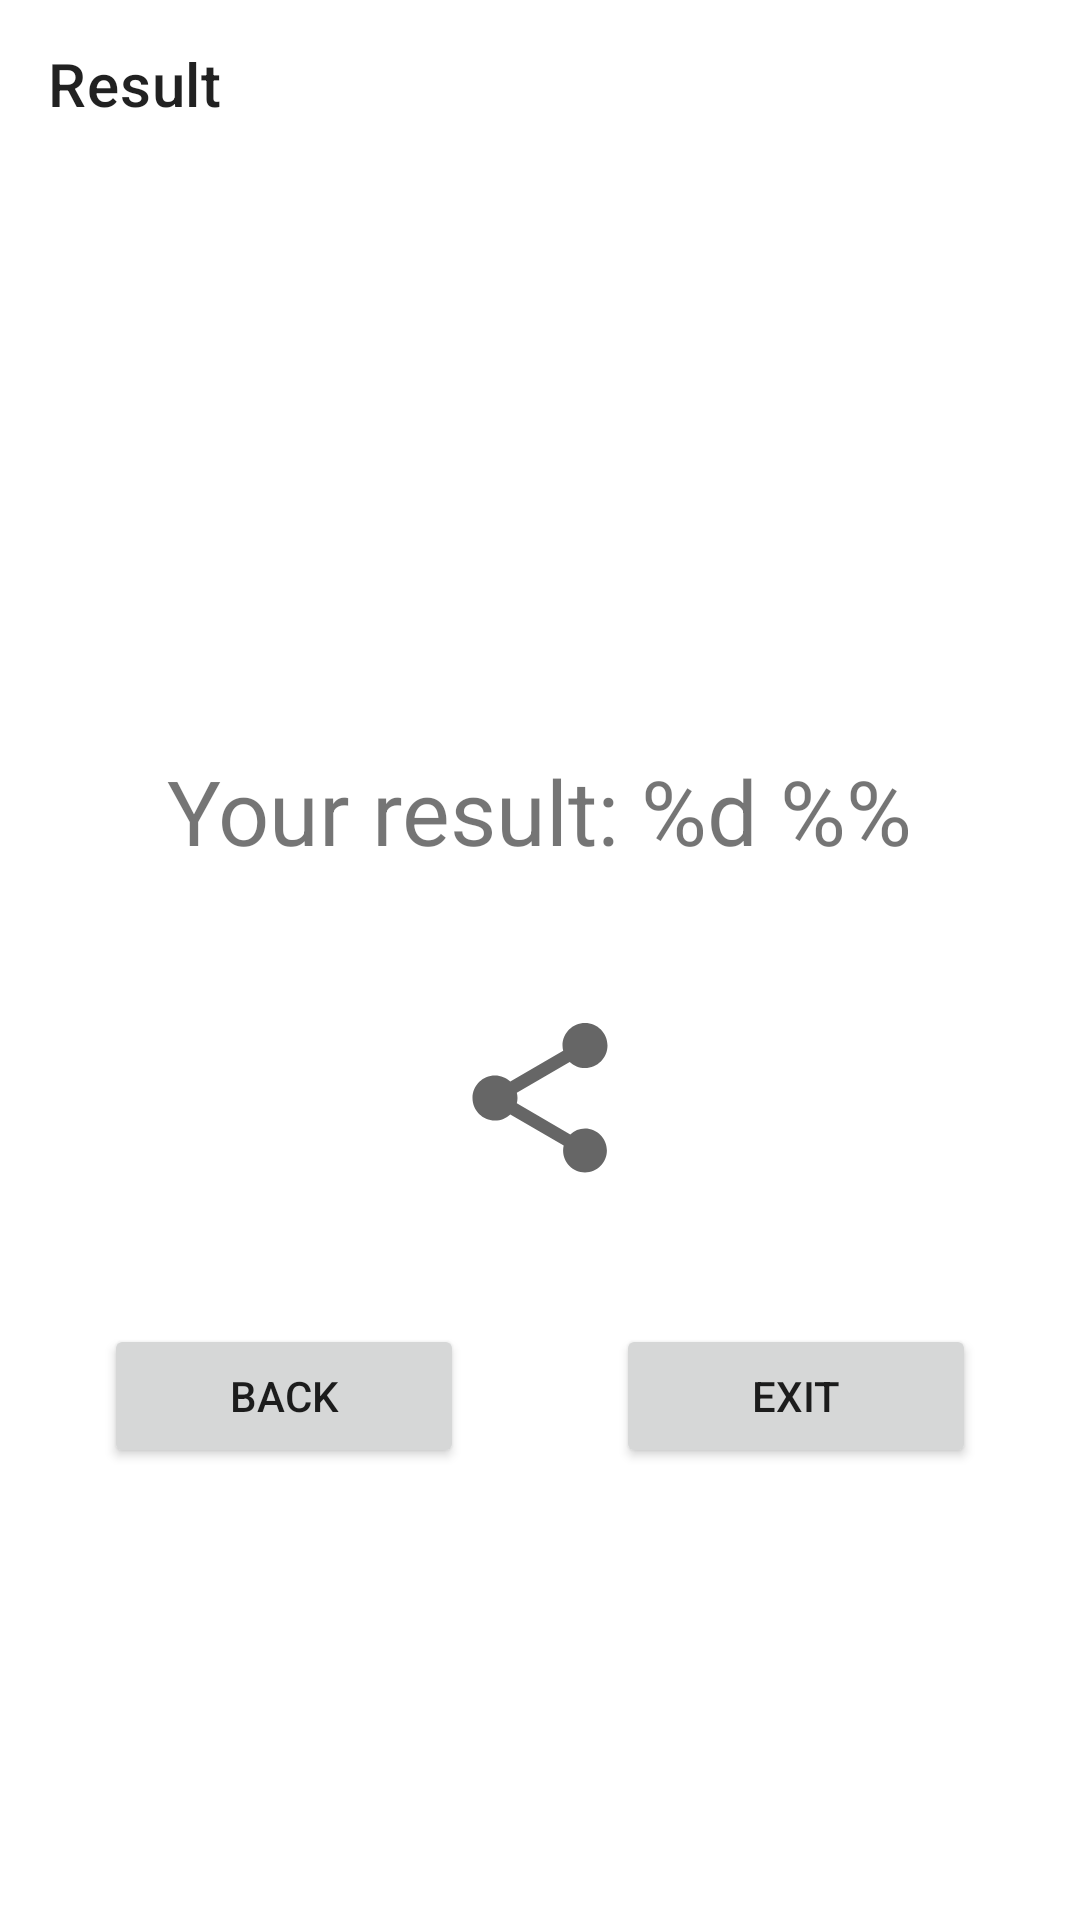

Locate icon controls on the screen. Image size 1080*1920, boxes as (x1, y1, x2, y2).
share: (472, 1023, 608, 1173)
